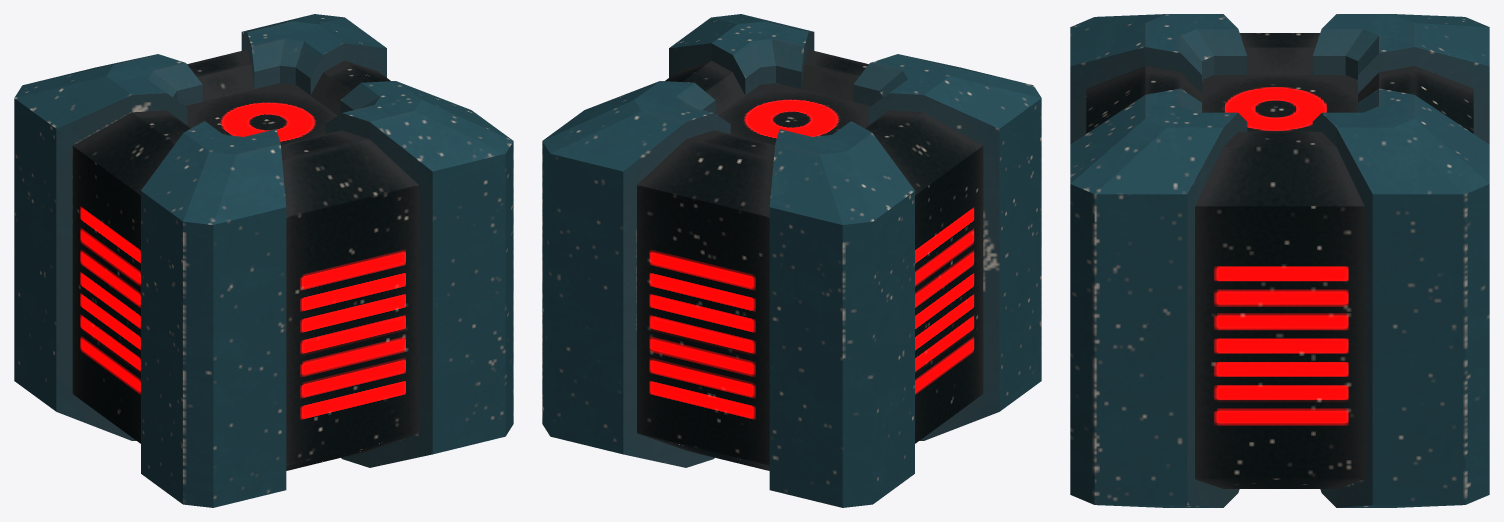
File: box_small.glb
The picture shows the model from 3 angles, left to right: view 1: azimuth 30°, elevation 25°; view 2: azimuth 150°, elevation 25°; view 3: azimuth 270°, elevation 25°; orthographic projection. The views are drawn at different scales.
Parts seen in each view (by area): view 1: BOX_006.002; view 2: BOX_006.002; view 3: BOX_006.002.
Part boxes in pixels (left/top/right/bottom): BOX_006.002: left=14, top=14, right=513, bottom=507; BOX_006.002: left=542, top=14, right=1041, bottom=507; BOX_006.002: left=1070, top=14, right=1489, bottom=507.
Size of what is drawn, in the model's own units: 1 by 1 by 1.
Materials: 1 (1 with a texture image).
